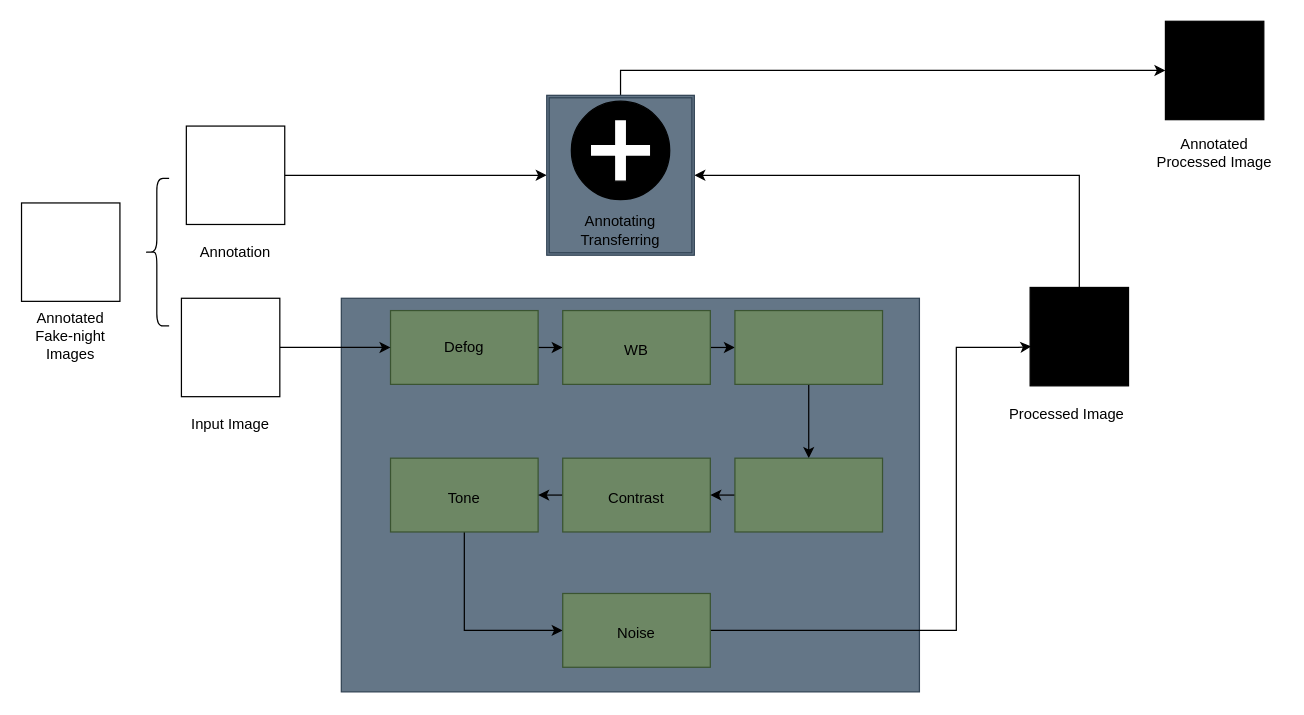
This 1304x715 diagram has some shape labels left out. Each missing label, with the centre of its shape:
"Gamma" goes at pixel 808 346.
"Sharpen" goes at pixel 808 494.
